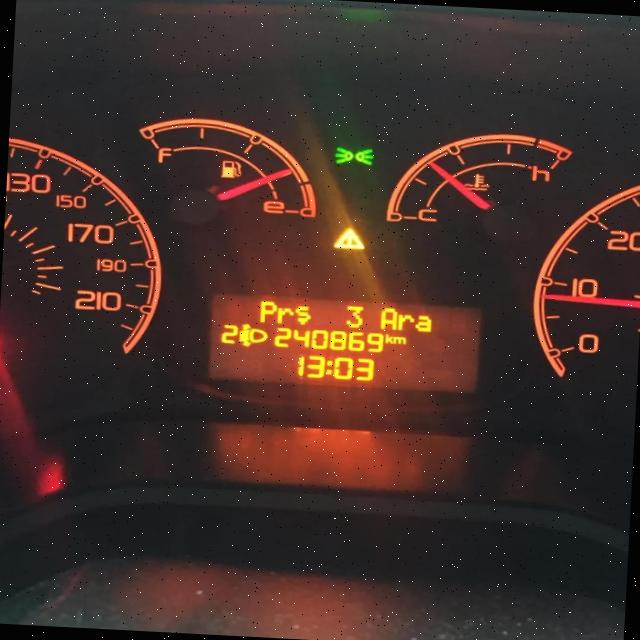odometer: (202, 288, 486, 397)
